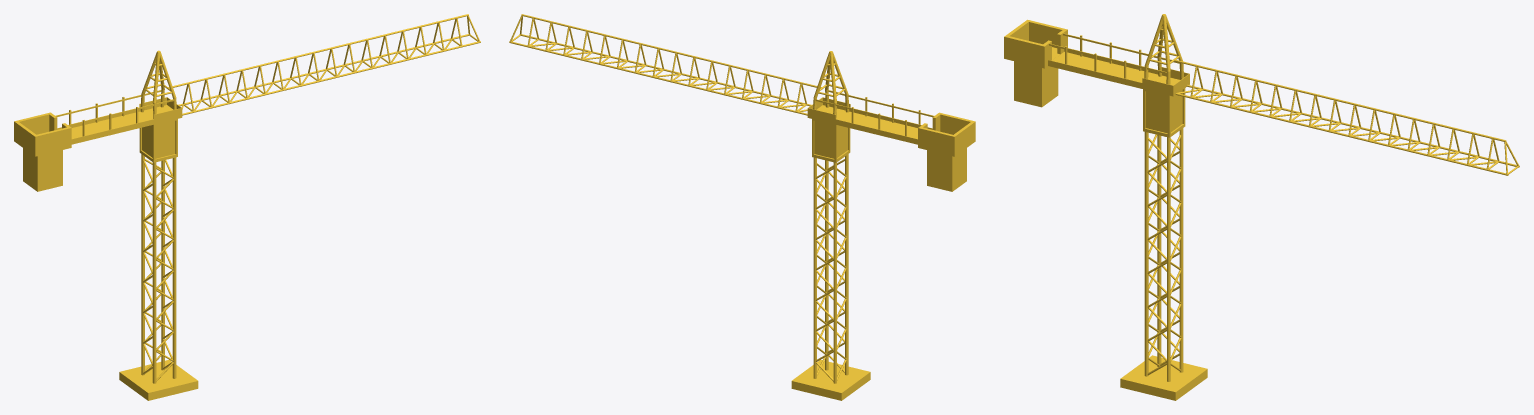
File: grue 1.fbx
3 renders of one model, left to right at view 1: azimuth 30°, elevation 25°; view 2: azimuth 150°, elevation 25°; view 3: azimuth 330°, elevation 25°, orthographic. The views are drawn at different scales.
Parts seen in each view (by area): view 1: grue; view 2: grue; view 3: grue.
Boxes of the visible parts, x1=… form: grue: x1=14, y1=14, x2=480, y2=400; grue: x1=509, y1=14, x2=975, y2=400; grue: x1=1004, y1=14, x2=1519, y2=400.
Bounding box in the file's own units: 13780 × 9721 × 1534.
